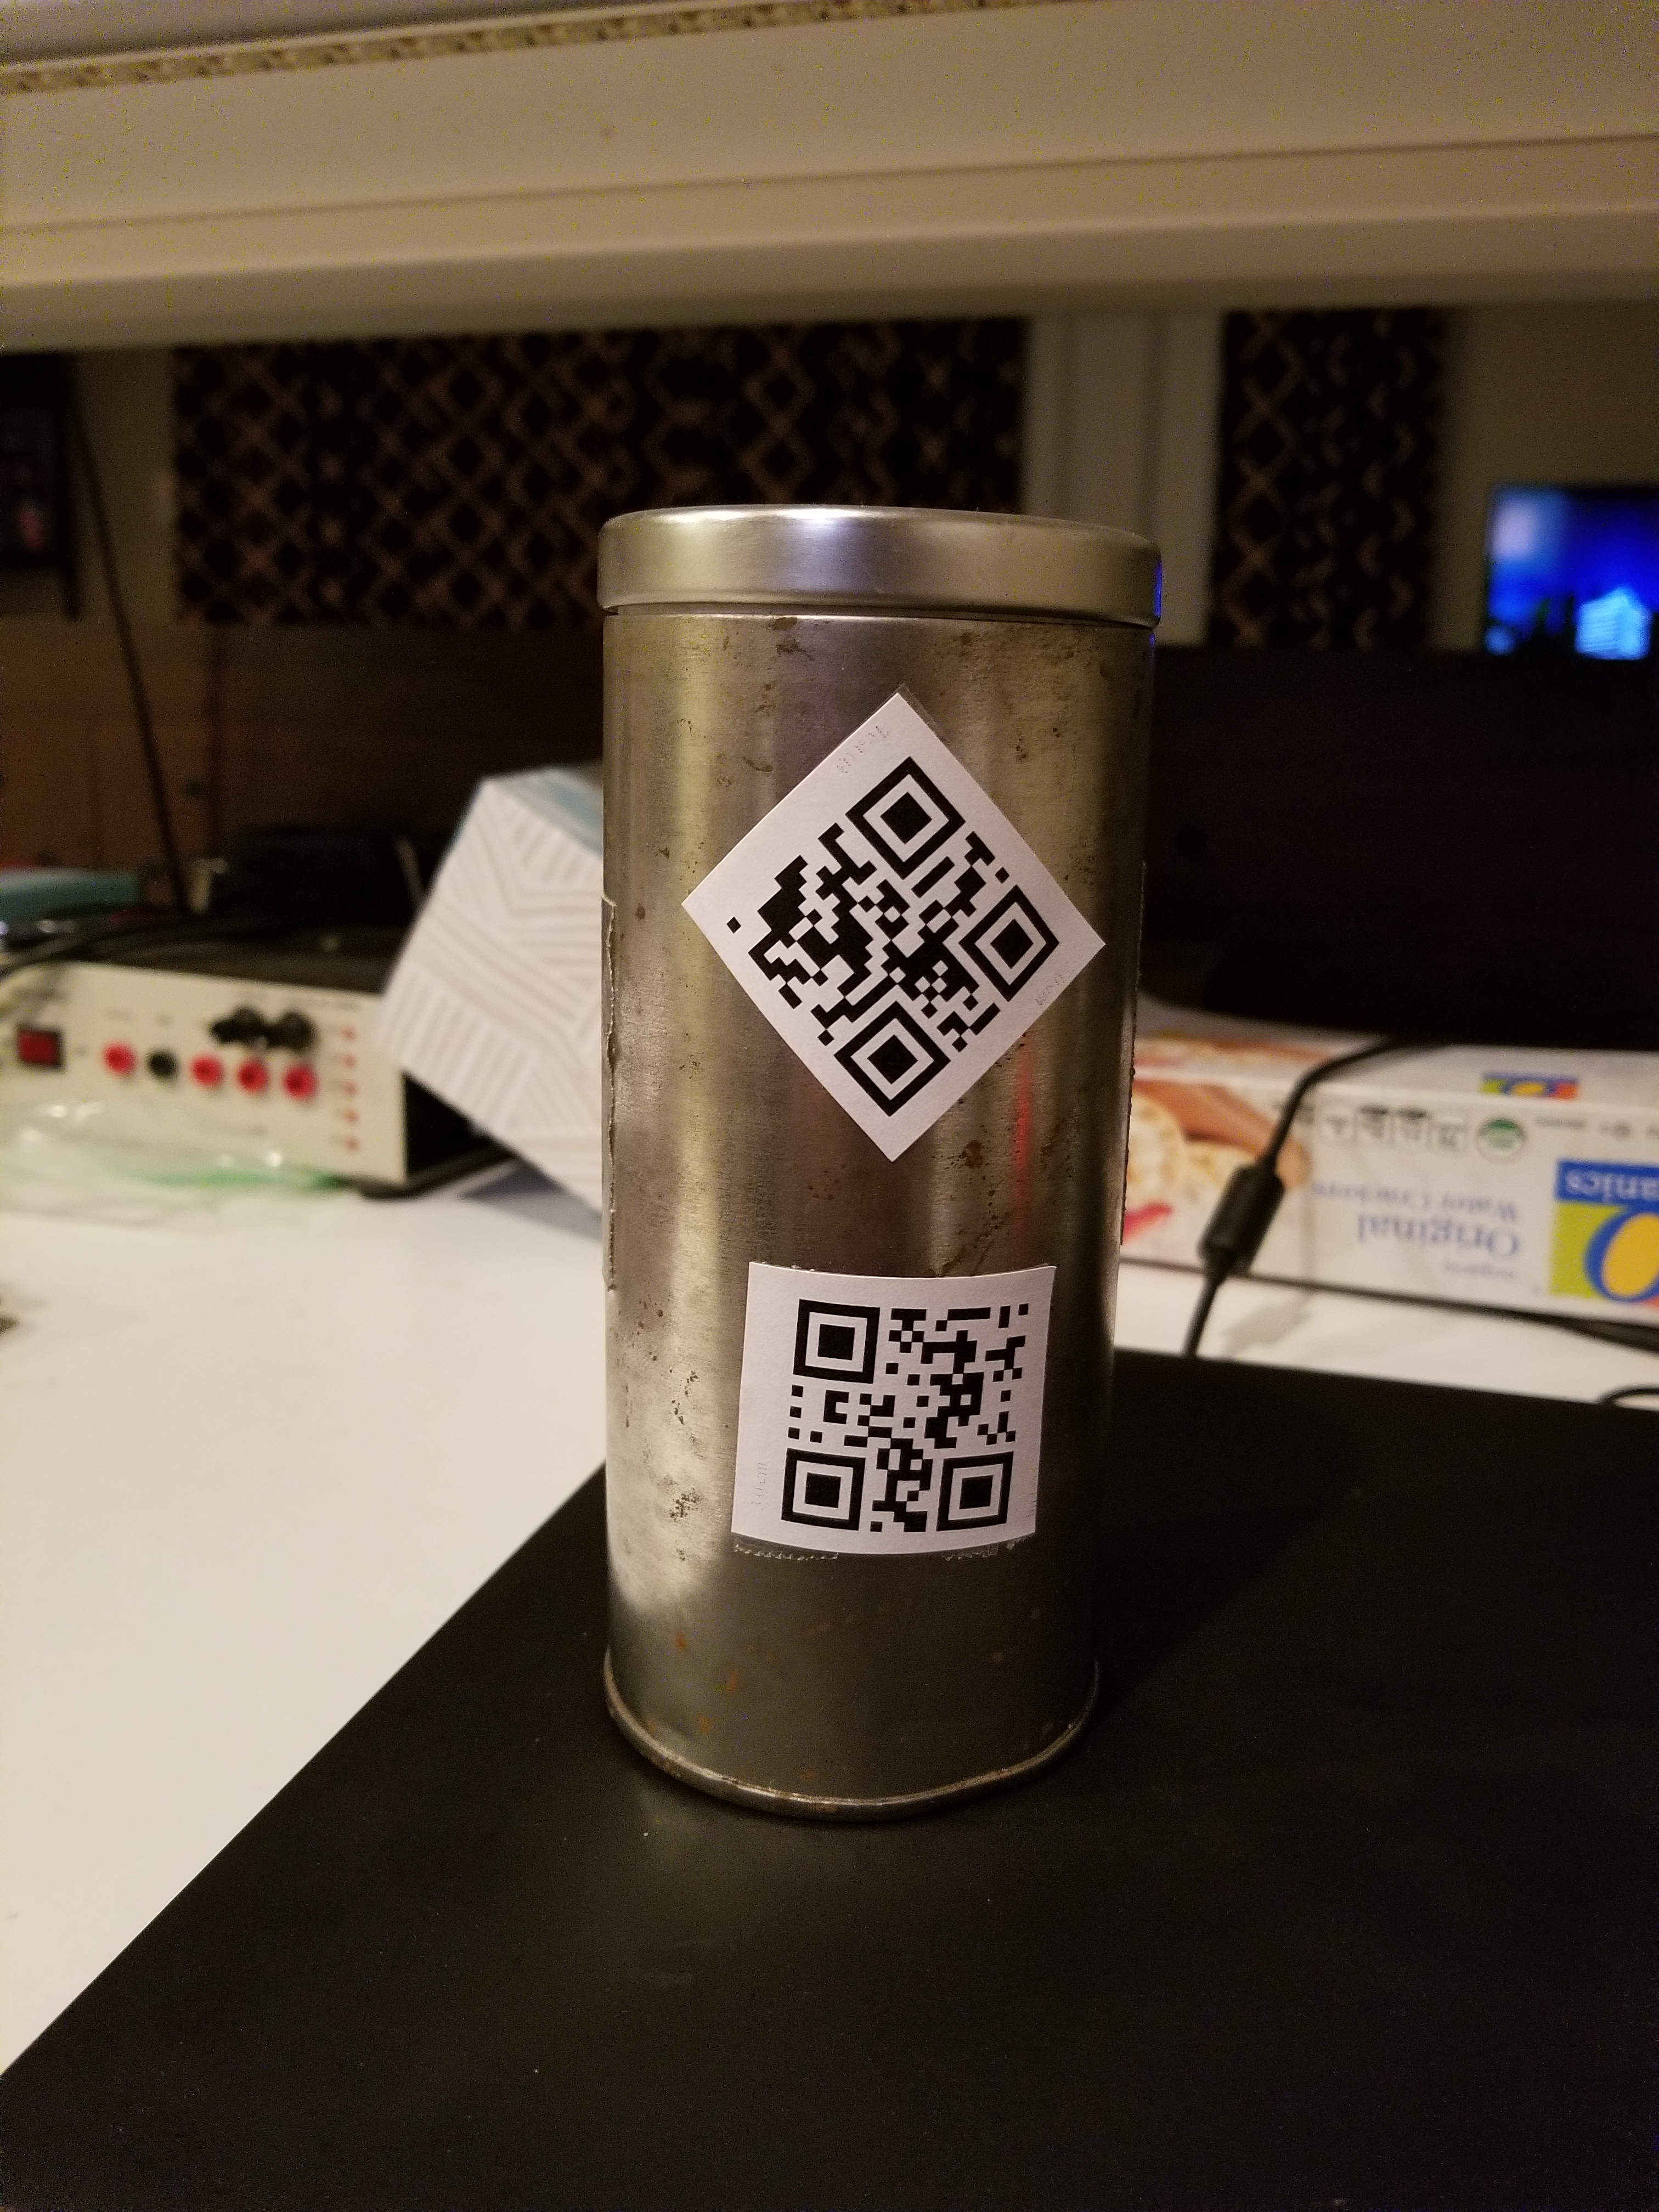QR_CODE: (701, 714, 1075, 1136), (756, 1242, 1053, 1562)
